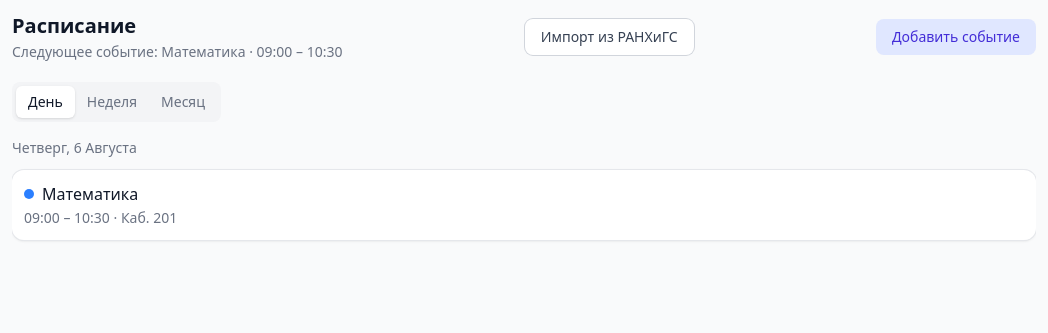
it: SchedulePage › switches to week view
Click the button "Неделя" at point(112, 102), box [75,86,149,118]
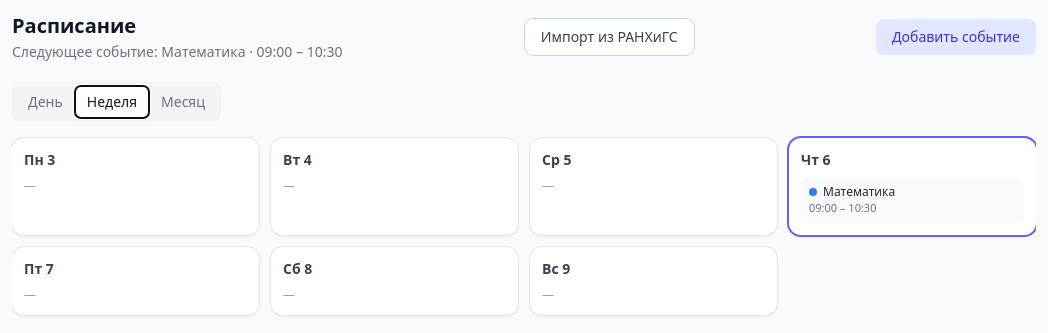
expect the text "Пн" is shown: met, box [24,150,44,169]
